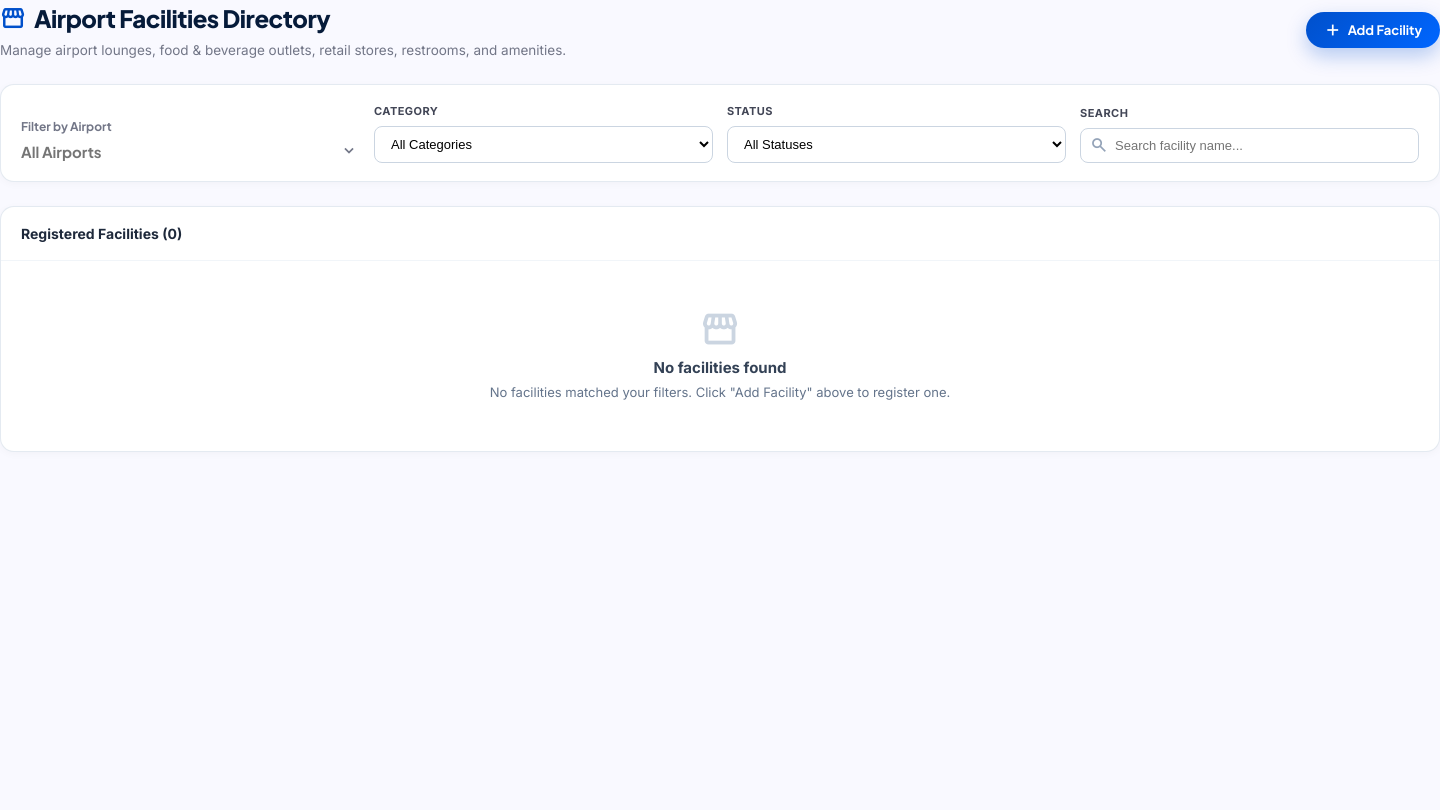
Test: Task 16c Part B: Admin Pages Dialogs & Action Buttons (RTL + jsdom) › 2. Facilities Directory Modal (Add Facility) › opens and closes Add Facility modal upon clicking the button
Expected: the heading "Airport Facilities Directory" is shown, [34,0,330,36]
Note: Click Add Facility
Step 1. Click the button "Add Facility" → (1373, 30), box [1306,12,1439,48]
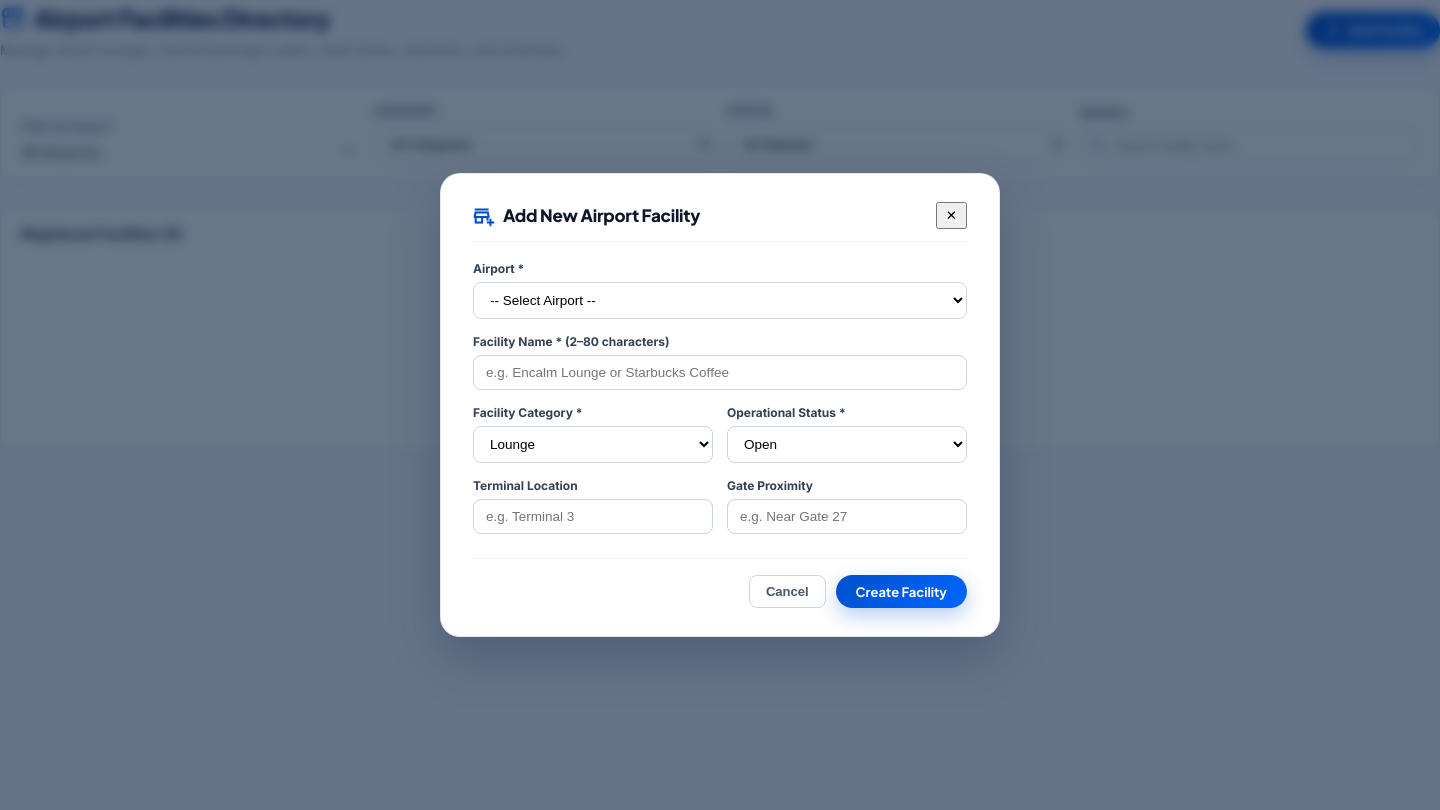
Now the heading "Add New Airport Facility" is shown, box [503,203,700,228]
Now the element with class "modal-backdrop" is shown
Note: Close via Cancel button in modal
Step 2. Click the button "Cancel" → (787, 592), box [749,575,826,608]
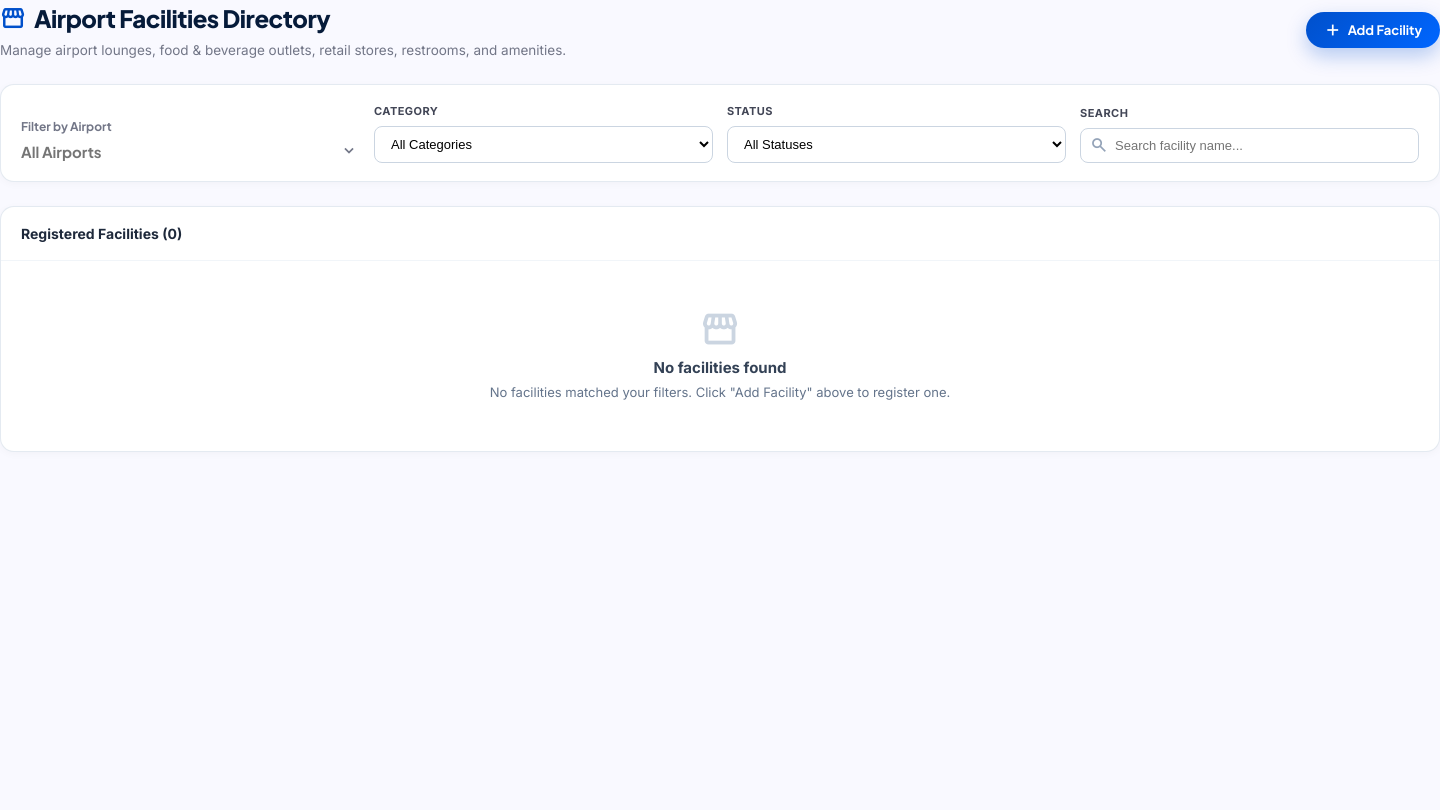
Now the heading "Add New Airport Facility" is gone
